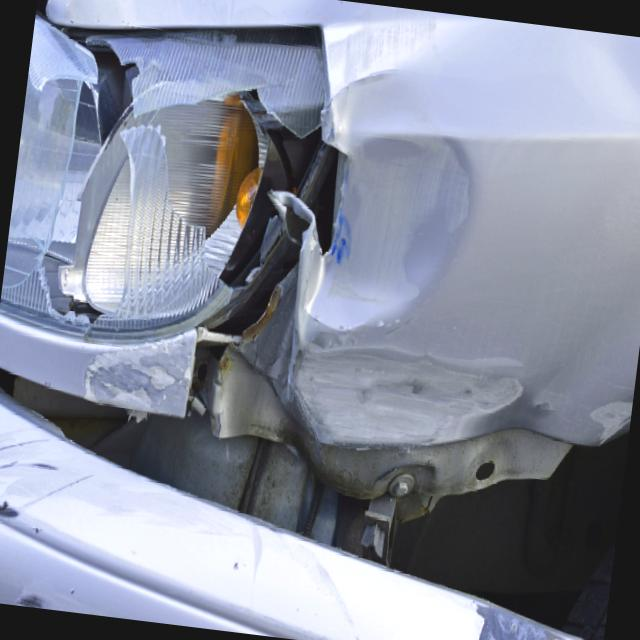Cabossage: (318, 44, 484, 385)
Dechirure: (0, 319, 633, 640)
Phare abime: (0, 4, 367, 350)
Rayure: (0, 421, 76, 610)
